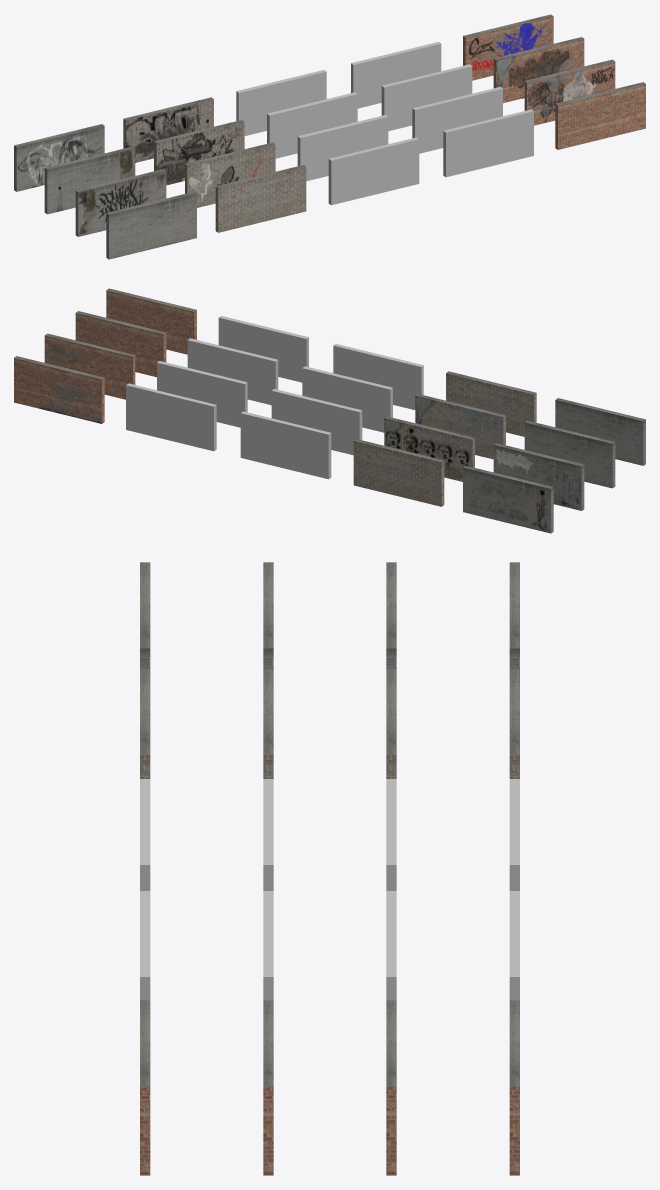
Rendered from Walls.FBX.
3 views of the same model, one above another, from view 1: azimuth 30°, elevation 25°; view 2: azimuth 150°, elevation 25°; view 3: azimuth 270°, elevation 25° (orthographic). The views are drawn at different scales.
Visible parts, largest first — view 1: Brick-A1, Block-A1, Brick-C1, Block-B1, Brick-B1, Block-B3, Block-B2, Block-B4, Brick-B3, Brick-B2, Brick-B4, Brick-A2 (+8 smaller); view 2: Brick-A4, Block-A4, Block-B4, Brick-C4, Brick-B4, Block-B2, Block-B3, Block-B1, Brick-B2, Brick-B3, Brick-B1, Brick-A3 (+8 smaller); view 3: Brick-C1, Brick-C3, Brick-C2, Brick-C4, Brick-A3, Brick-A2, Brick-A1, Brick-A4, Block-A4, Block-A3, Block-A2, Block-A1 (+8 smaller).
Part boxes in pixels (box(x1,y1,x2,y2)): Brick-A1: box(328, 137, 419, 205); Block-A1: box(215, 165, 306, 232); Brick-C1: box(555, 82, 645, 149); Block-B1: box(106, 191, 196, 259); Brick-B1: box(443, 109, 533, 177); Block-B3: box(44, 146, 135, 214); Block-B2: box(75, 169, 166, 236); Block-B4: box(14, 124, 104, 191); Brick-B3: box(381, 64, 472, 131); Brick-B2: box(412, 87, 502, 153); Brick-B4: box(351, 42, 441, 108); Brick-A2: box(297, 115, 388, 181); Brick-A4: box(240, 411, 331, 479); Block-A4: box(353, 439, 444, 506); Block-B4: box(463, 465, 553, 533); Brick-C4: box(14, 356, 104, 423); Brick-B4: box(126, 383, 216, 451); Block-B2: box(524, 420, 615, 488); Block-B3: box(493, 443, 584, 510); Block-B1: box(555, 398, 645, 465); Brick-B2: box(187, 338, 278, 405); Brick-B3: box(157, 361, 247, 427); Brick-B1: box(218, 316, 308, 382); Brick-A3: box(271, 389, 362, 455); Brick-C1: box(140, 1000, 150, 1175); Brick-C3: box(386, 1000, 396, 1175); Brick-C2: box(263, 1000, 273, 1175); Brick-C4: box(509, 1000, 519, 1175); Brick-A3: box(386, 779, 396, 890); Brick-A2: box(263, 779, 273, 890); Brick-A1: box(140, 779, 150, 890); Brick-A4: box(509, 779, 519, 890); Block-A4: box(509, 669, 519, 778); Block-A3: box(386, 669, 396, 778); Block-A2: box(263, 669, 273, 778); Block-A1: box(140, 669, 150, 778).
Size of the model in its own units: 1189 by 94.49 by 364.
